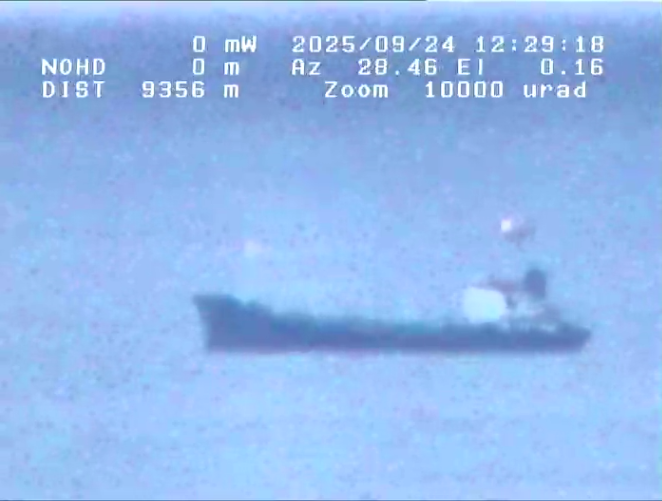TANKER: (170, 182, 605, 372)
